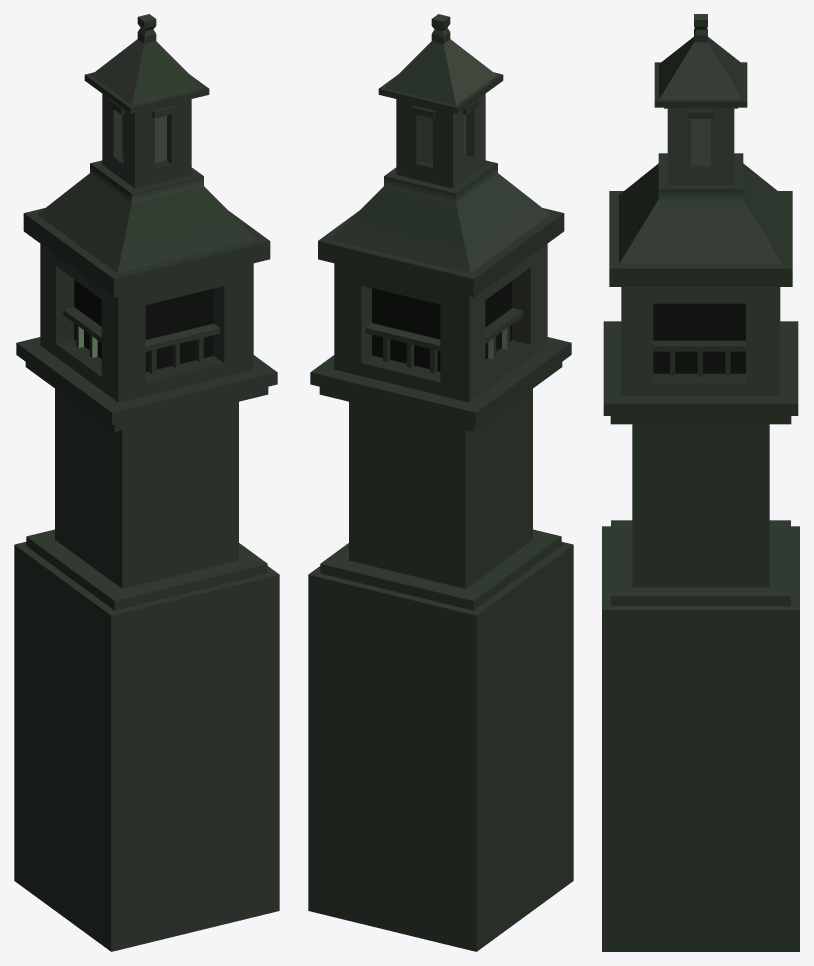
File: SF_Bld_Elven_Castle_Wall_Tower_02.glb
The picture shows the model from 3 angles, left to right: view 1: azimuth 30°, elevation 25°; view 2: azimuth 150°, elevation 25°; view 3: azimuth 270°, elevation 25°; orthographic projection.
Parts seen in each view (by area): view 1: SF_Bld_Elven_Castle_Wall_Tower_02; view 2: SF_Bld_Elven_Castle_Wall_Tower_02; view 3: SF_Bld_Elven_Castle_Wall_Tower_02.
Part boxes in pixels (x1,y1,x2,y2): SF_Bld_Elven_Castle_Wall_Tower_02: (14,14,279,951); SF_Bld_Elven_Castle_Wall_Tower_02: (308,14,573,951); SF_Bld_Elven_Castle_Wall_Tower_02: (602,14,799,951).
Size of the model in its own units: 0.0669 by 0.333 by 0.0669.
Materials: 1 (1 with a texture image).
